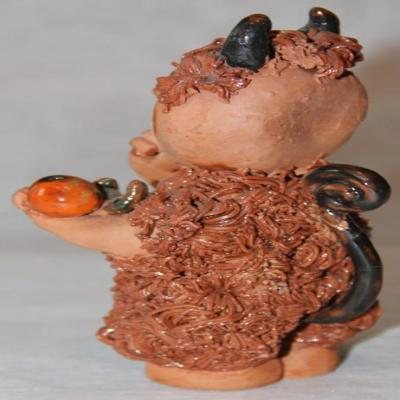sculpture: (15, 10, 390, 392)
